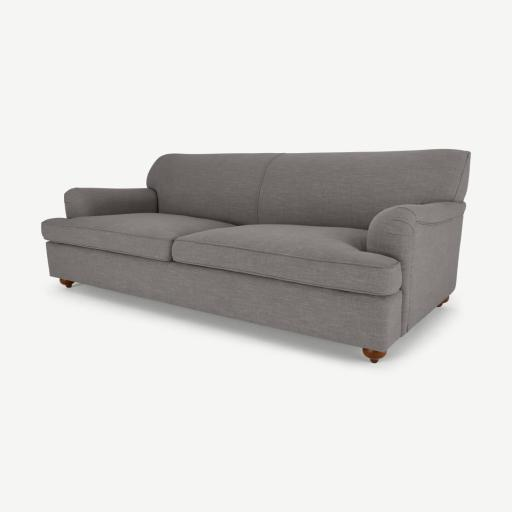back_cushion: (147, 149, 469, 229)
base: (47, 242, 404, 351)
left_arm: (367, 202, 464, 335)
legs: (363, 348, 386, 363), (60, 278, 74, 288), (438, 297, 448, 306)
right_arm: (64, 188, 157, 218)
seat_cushion: (42, 213, 398, 293)
two-seater: (0, 0, 511, 512)
